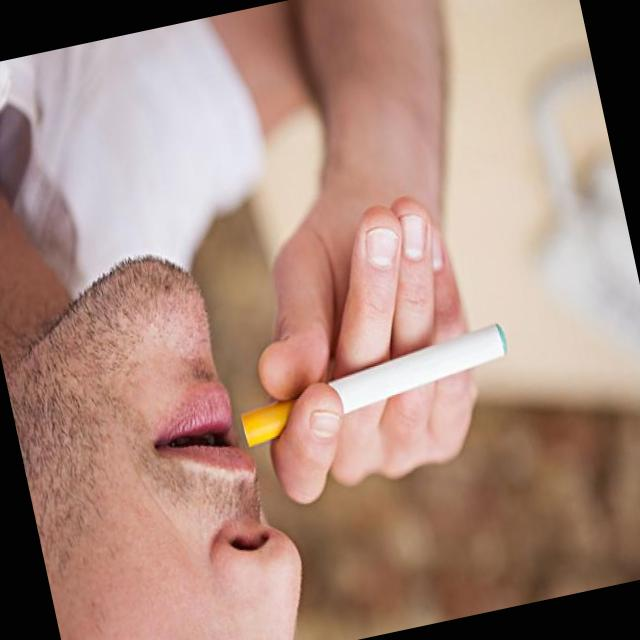smoke: (228, 318, 524, 454)
